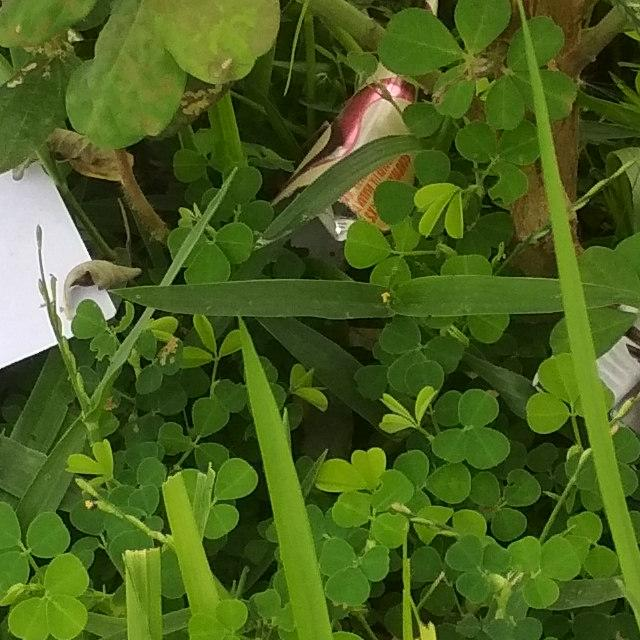paper: (0, 0, 165, 640)
